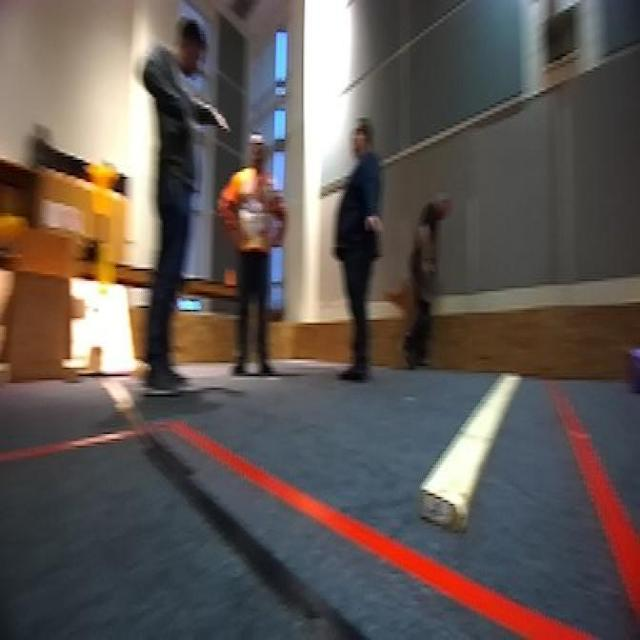frc_cone: (0, 204, 24, 259), (90, 162, 115, 214), (94, 242, 114, 298)
